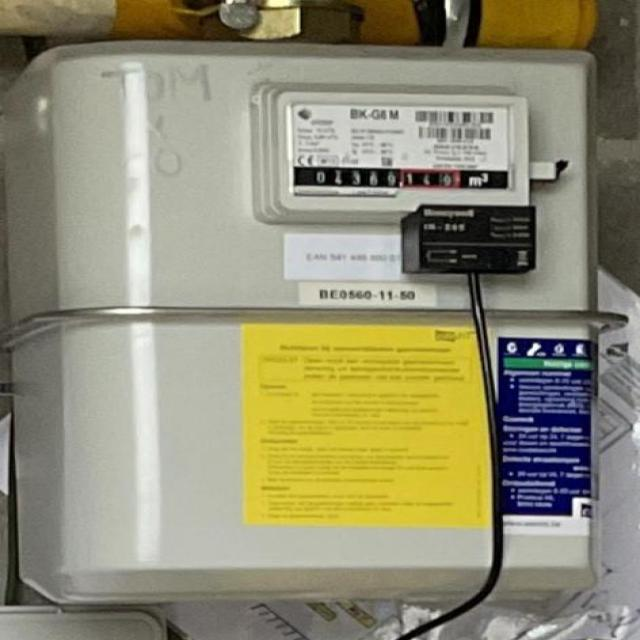gaz_meter: (288, 100, 514, 194)
indication: (295, 169, 462, 191)
